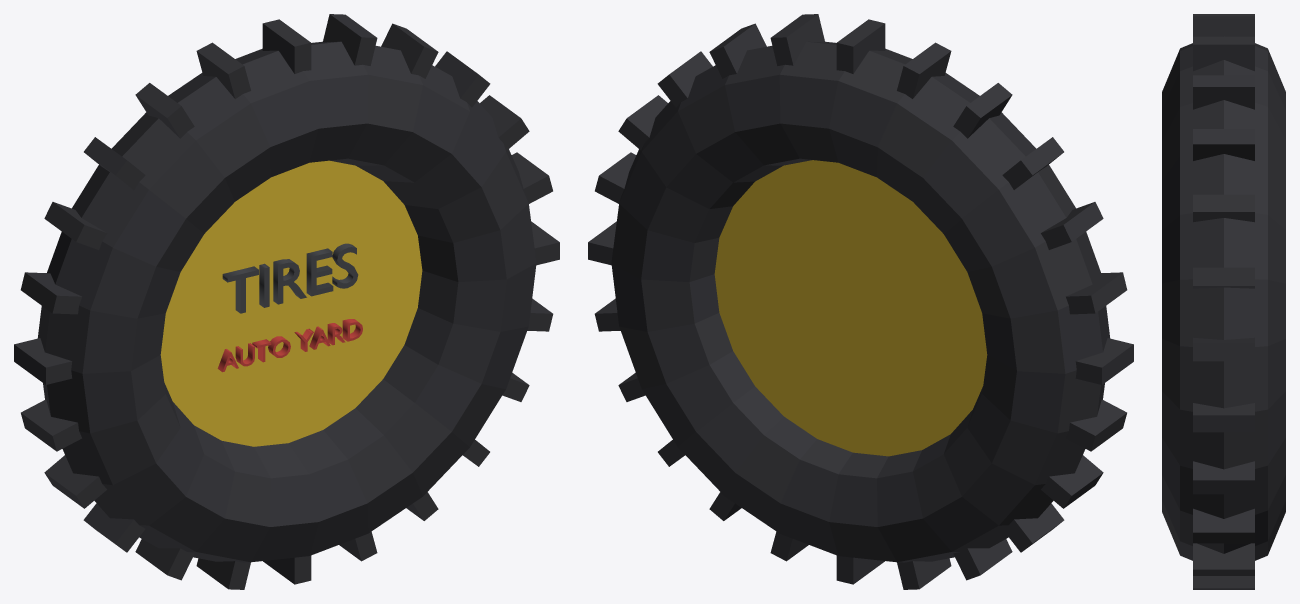
File: sign_tires.glb
3 renders of one model, left to right at view 1: azimuth 30°, elevation 25°; view 2: azimuth 150°, elevation 25°; view 3: azimuth 270°, elevation 25°, orthographic. The views are drawn at different scales.
Parts seen in each view (by area): view 1: sign_tires; view 2: sign_tires; view 3: sign_tires.
Boxes of the visible parts, bbox=[...] form: sign_tires: bbox=[14, 14, 559, 589]; sign_tires: bbox=[588, 14, 1133, 589]; sign_tires: bbox=[1162, 14, 1285, 589].
Bounding box in the file's own units: 0.93 × 0.93 × 0.2.
